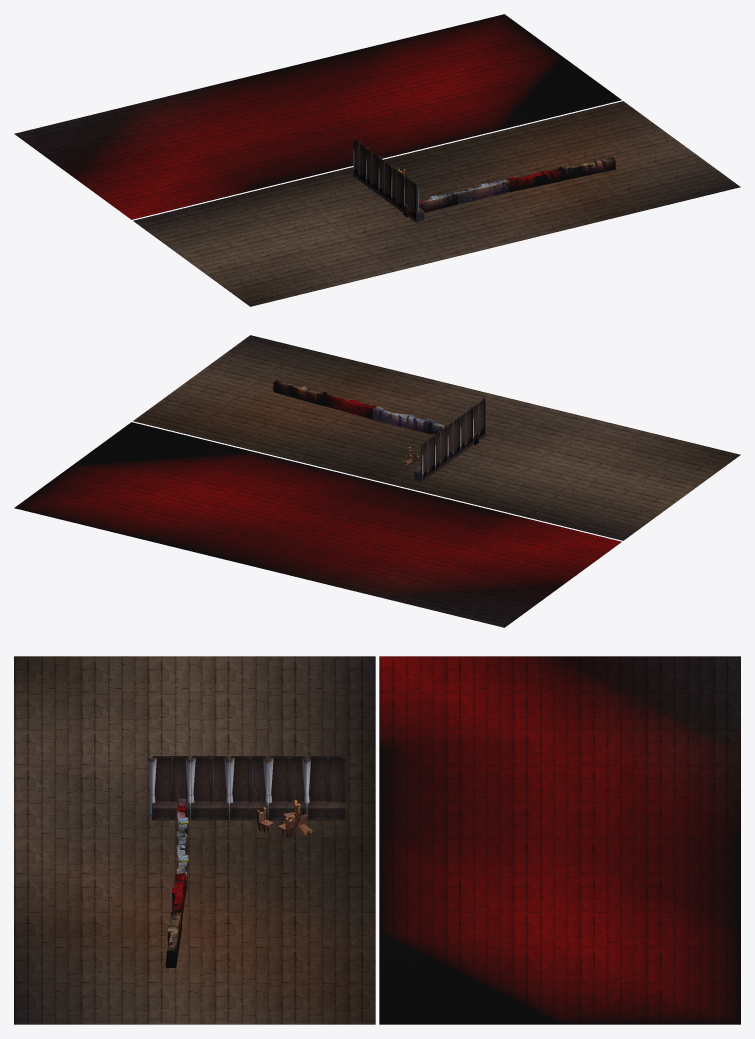
The model's file is room_map.glb.
3 views of the same model, one above another, from view 1: azimuth 30°, elevation 25°; view 2: azimuth 150°, elevation 25°; view 3: azimuth 270°, elevation 25° (orthographic). The views are drawn at different scales.
Parts seen in each view (by area): view 1: GroundPainted.001, GroundPainted, WallExport.004, WallExport.005, WallExport.002, WallExport.001; view 2: GroundPainted.001, GroundPainted, WallExport.002, WallExport.005, WallExport.004; view 3: GroundPainted.001, GroundPainted, WindowPane.004, WindowPane.003, WindowPane.002, WindowPane.005, WindowPane.006, WindowWood.004, WindowWood.005, WindowWood.002, WindowWood.006, WindowWood.003 (+2 smaller).
Part boxes in pixels (bbox=[...]): GroundPainted.001: bbox=[14, 14, 621, 219]; GroundPainted: bbox=[133, 101, 740, 306]; WallExport.004: bbox=[506, 168, 563, 192]; WallExport.005: bbox=[558, 157, 615, 180]; WallExport.002: bbox=[457, 178, 508, 204]; WallExport.001: bbox=[403, 191, 458, 216]; GroundPainted.001: bbox=[14, 422, 621, 627]; GroundPainted: bbox=[133, 335, 740, 540]; WallExport.002: bbox=[372, 406, 425, 432]; WallExport.005: bbox=[273, 380, 326, 405]; WallExport.004: bbox=[324, 394, 375, 419]; GroundPainted.001: bbox=[379, 656, 740, 1024]; GroundPainted: bbox=[14, 656, 375, 1024]; WindowPane.004: bbox=[308, 756, 343, 800]; WindowPane.003: bbox=[270, 756, 304, 800]; WindowPane.002: bbox=[231, 756, 265, 800]; WindowPane.005: bbox=[192, 756, 226, 800]; WindowPane.006: bbox=[153, 756, 187, 800]; WindowWood.004: bbox=[307, 757, 345, 820]; WindowWood.005: bbox=[191, 757, 228, 820]; WindowWood.002: bbox=[230, 757, 267, 820]; WindowWood.006: bbox=[152, 757, 189, 820]; WindowWood.003: bbox=[268, 757, 306, 820].
Bounding box in the file's own units: 89.56 × 8 × 74.73.
4 materials, 4 textured.
